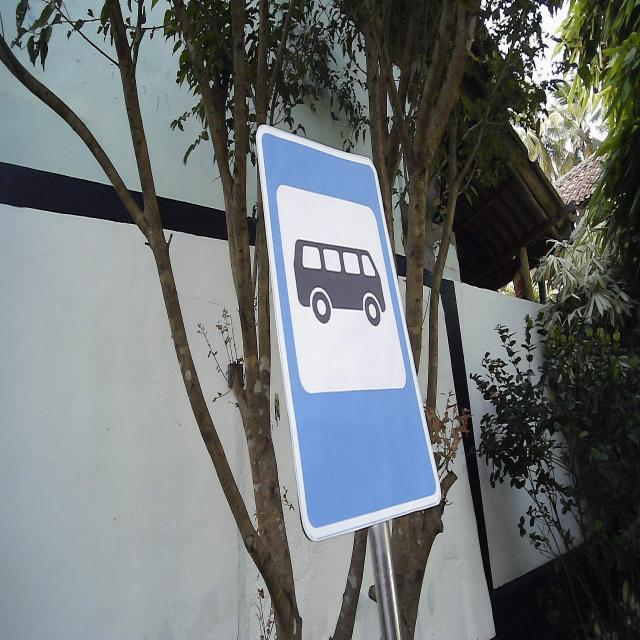bus_stop: (254, 122, 444, 546)
